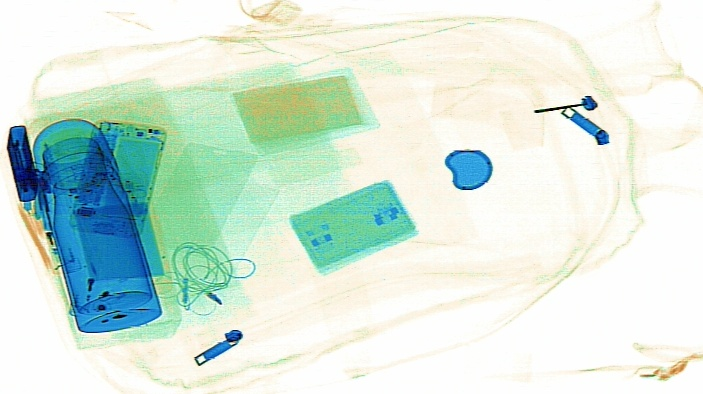lighter: (74, 232, 109, 316), (5, 123, 39, 203)
